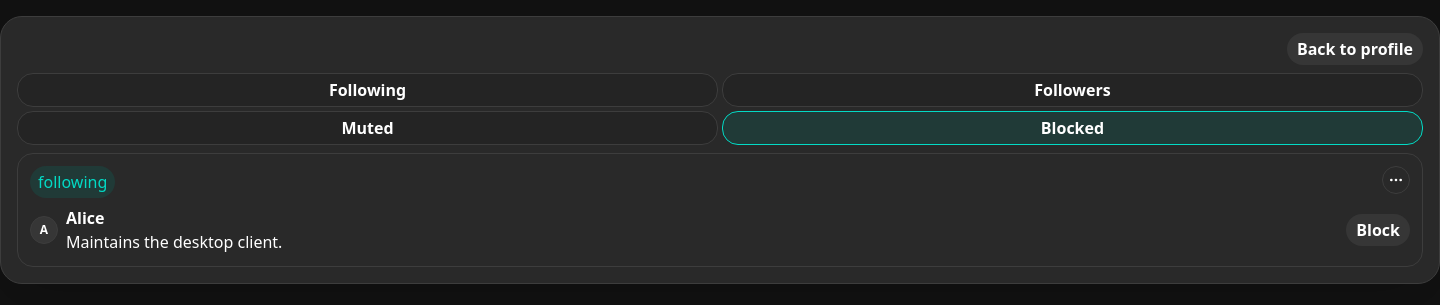
Test: the blocking view keeps its own action beside the user information
This screenshot has width=1440, height=305.
Click the button "Block" at (1378,230), box x1=1346 y1=214 x2=1410 y2=246
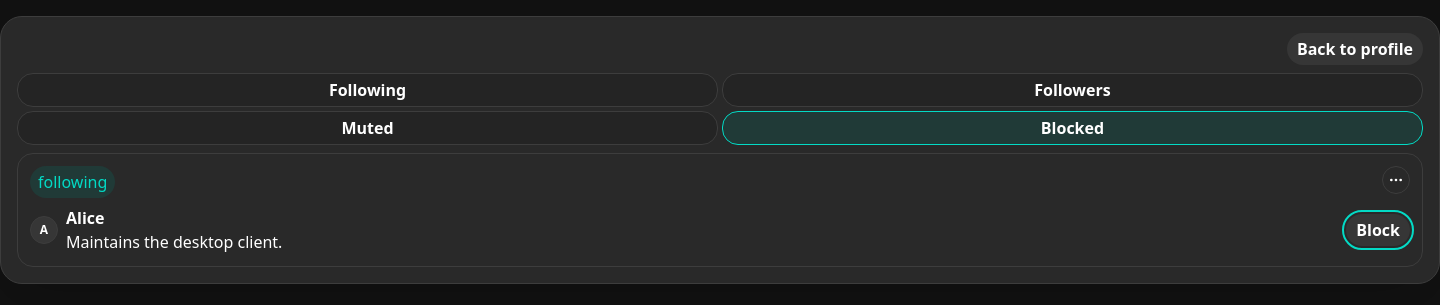
Click the button named "Actions for Alice" at (1396,180), box x1=1382 y1=166 x2=1410 y2=194
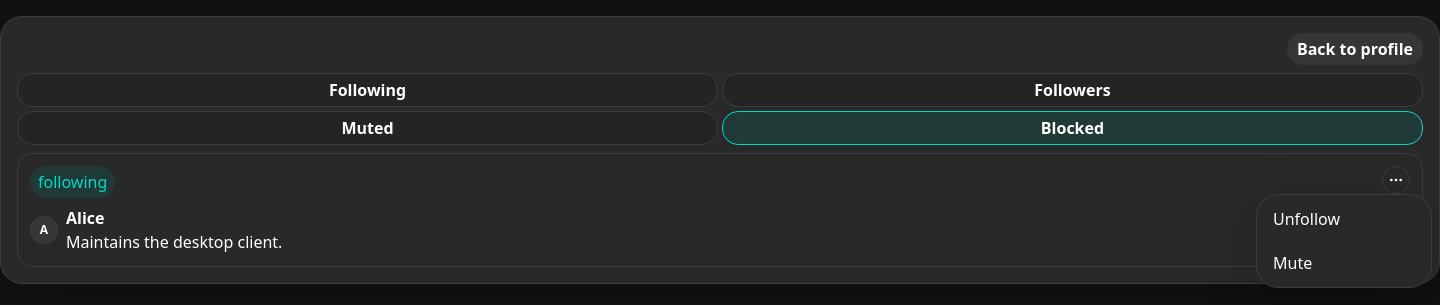
Expected: the number of menu items is 2, x1=1261 y1=199 x2=1427 y2=239; x1=1261 y1=243 x2=1427 y2=283
